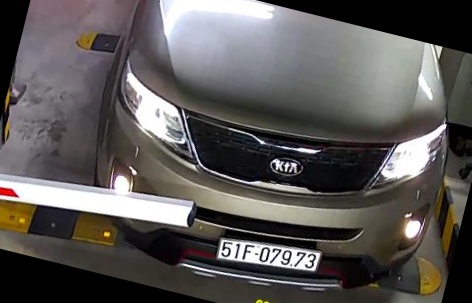plate: (213, 228, 326, 280)
